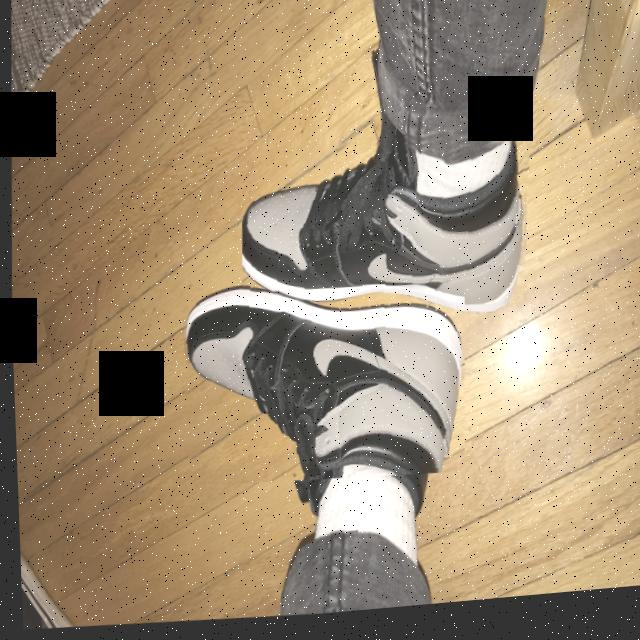shoe: (171, 278, 467, 499), (234, 129, 534, 331)
